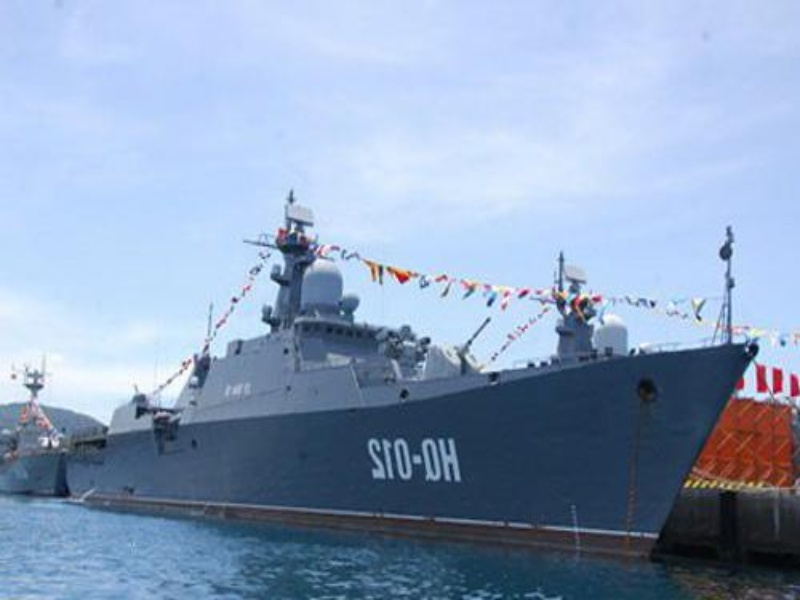cruise: (78, 253, 756, 572), (5, 365, 69, 501)
